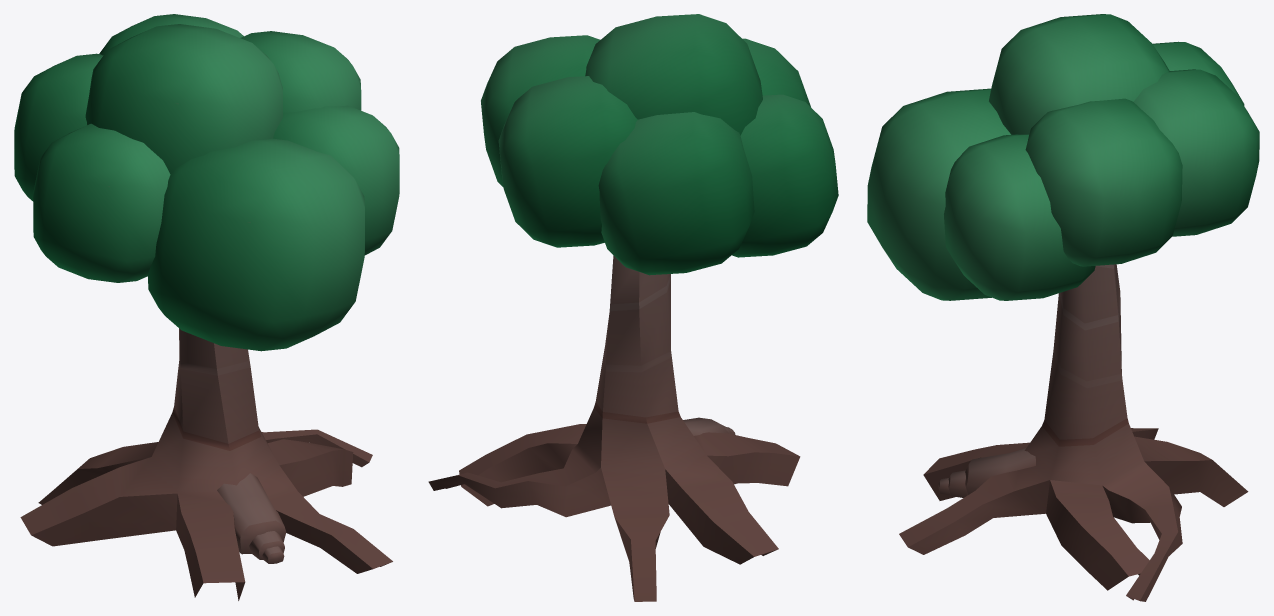
File: Tree.fbx
3 views of the same model, side by side, from view 1: azimuth 30°, elevation 25°; view 2: azimuth 150°, elevation 25°; view 3: azimuth 270°, elevation 25° (orthographic). The views are drawn at different scales.
Parts seen in each view (by area): view 1: Plane.161, Plane.160; view 2: Plane.161, Plane.160; view 3: Plane.161, Plane.160.
Boxes of the visible parts, bbox=[...] form: Plane.161: bbox=[14, 14, 399, 351]; Plane.160: bbox=[20, 328, 392, 600]; Plane.161: bbox=[481, 14, 838, 275]; Plane.160: bbox=[428, 255, 800, 601]; Plane.161: bbox=[867, 14, 1259, 300]; Plane.160: bbox=[899, 264, 1248, 601].
Size of the model in its own units: 815 by 1094 by 782.
